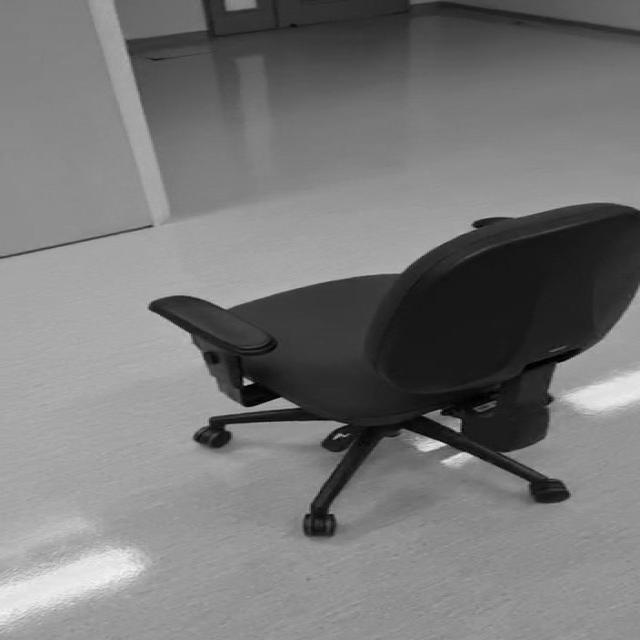cadeira-azul: (150, 201, 640, 537)
